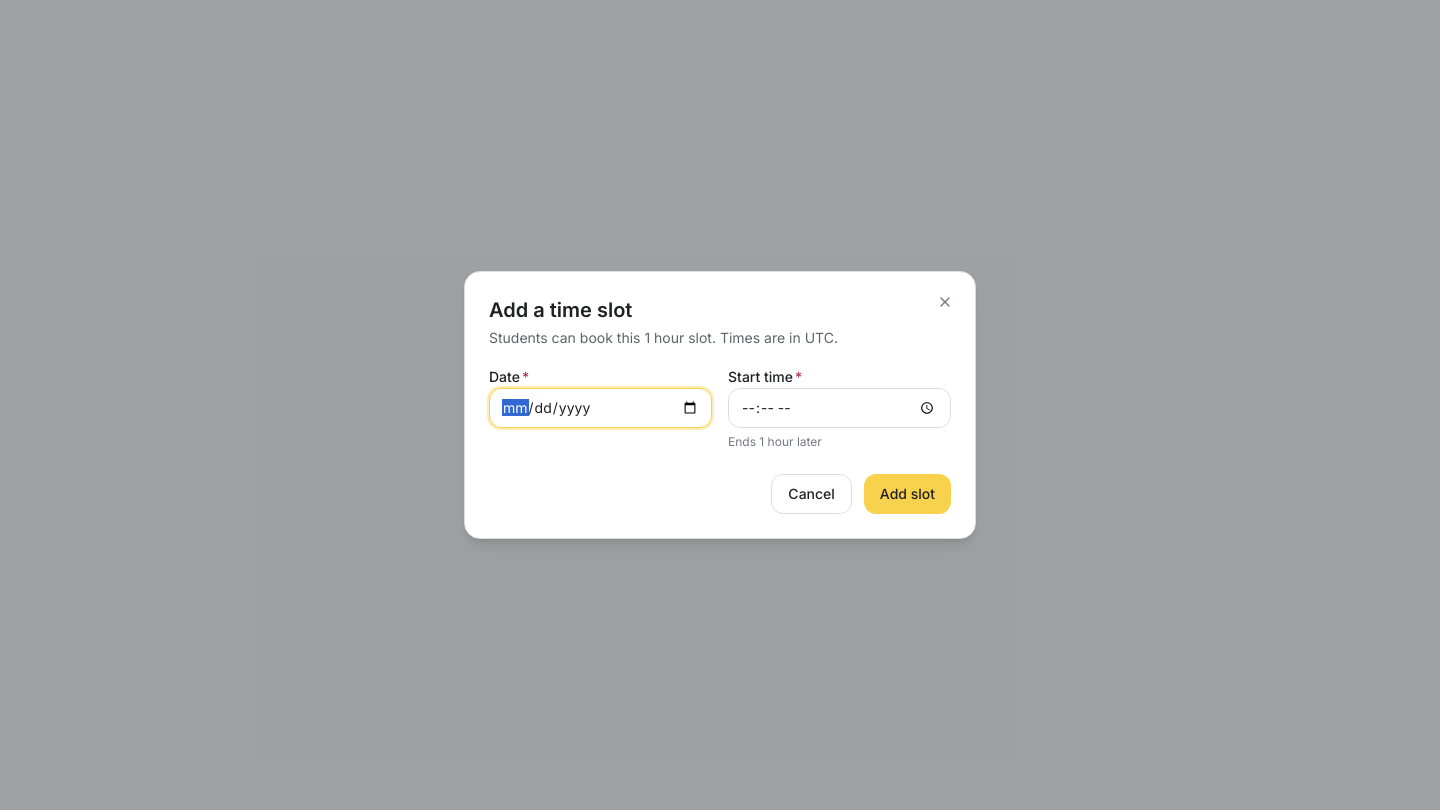
Scenario: AddSlotDialog › shows required errors when nothing is chosen
Click the button "Add slot" at [907, 494], box [864,474,951,514]
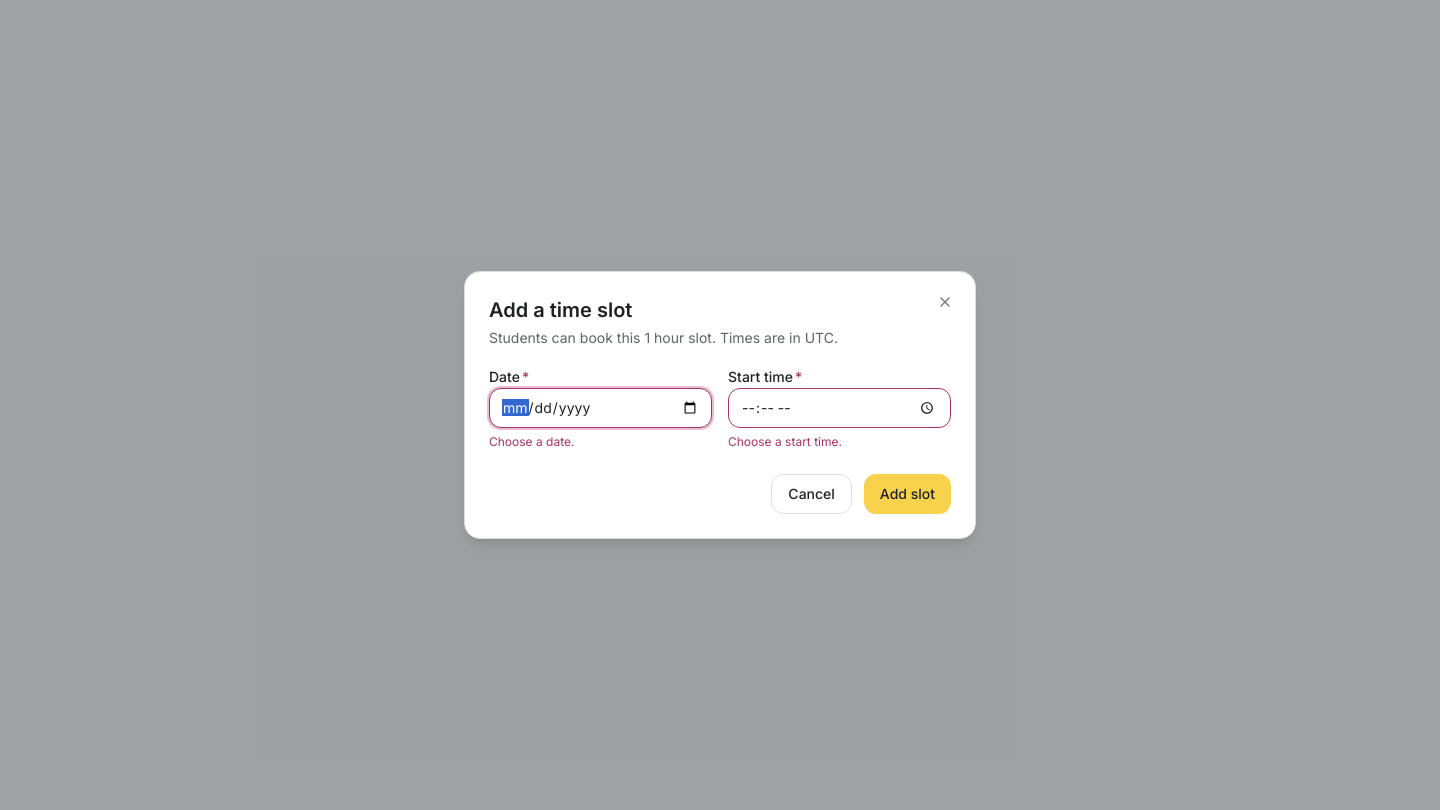
Expected: the text "Choose a date." is shown, [489,434,574,449]
Expected: the text "Choose a start time." is shown, [728,434,842,449]
